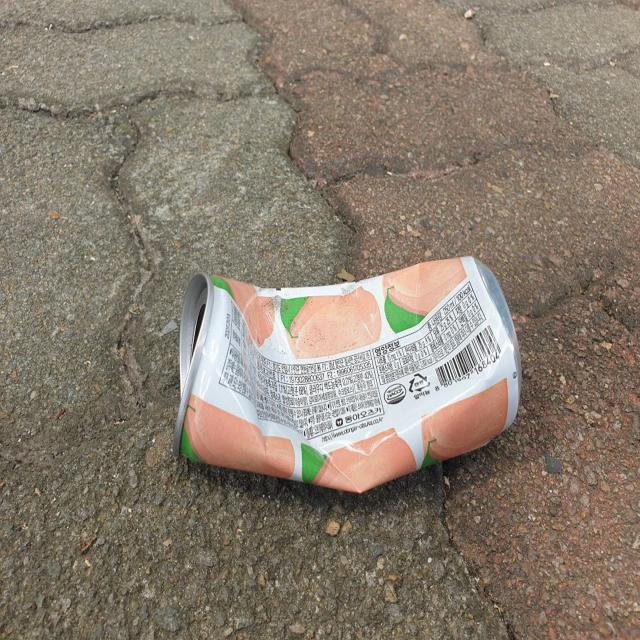can: (172, 256, 522, 493)
